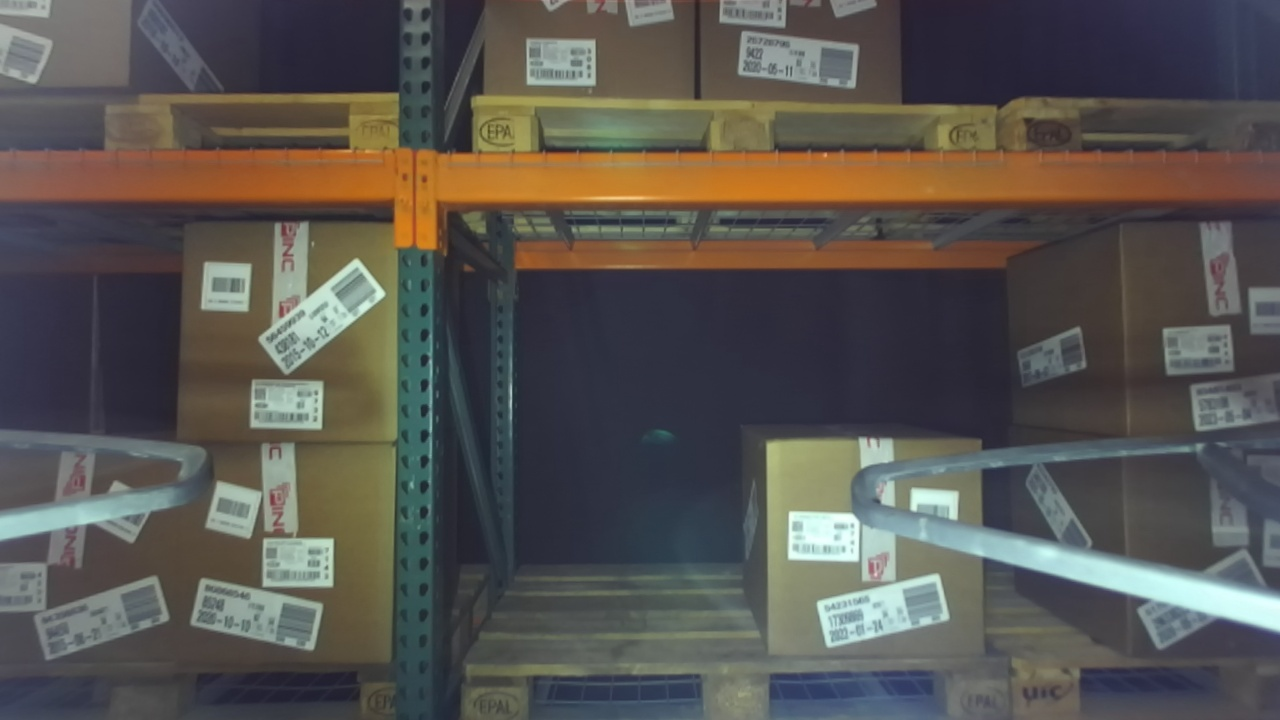box: (718, 426, 985, 688), (156, 423, 413, 693), (155, 204, 413, 463), (1093, 193, 1277, 476), (1098, 424, 1268, 720), (2, 423, 188, 693)
